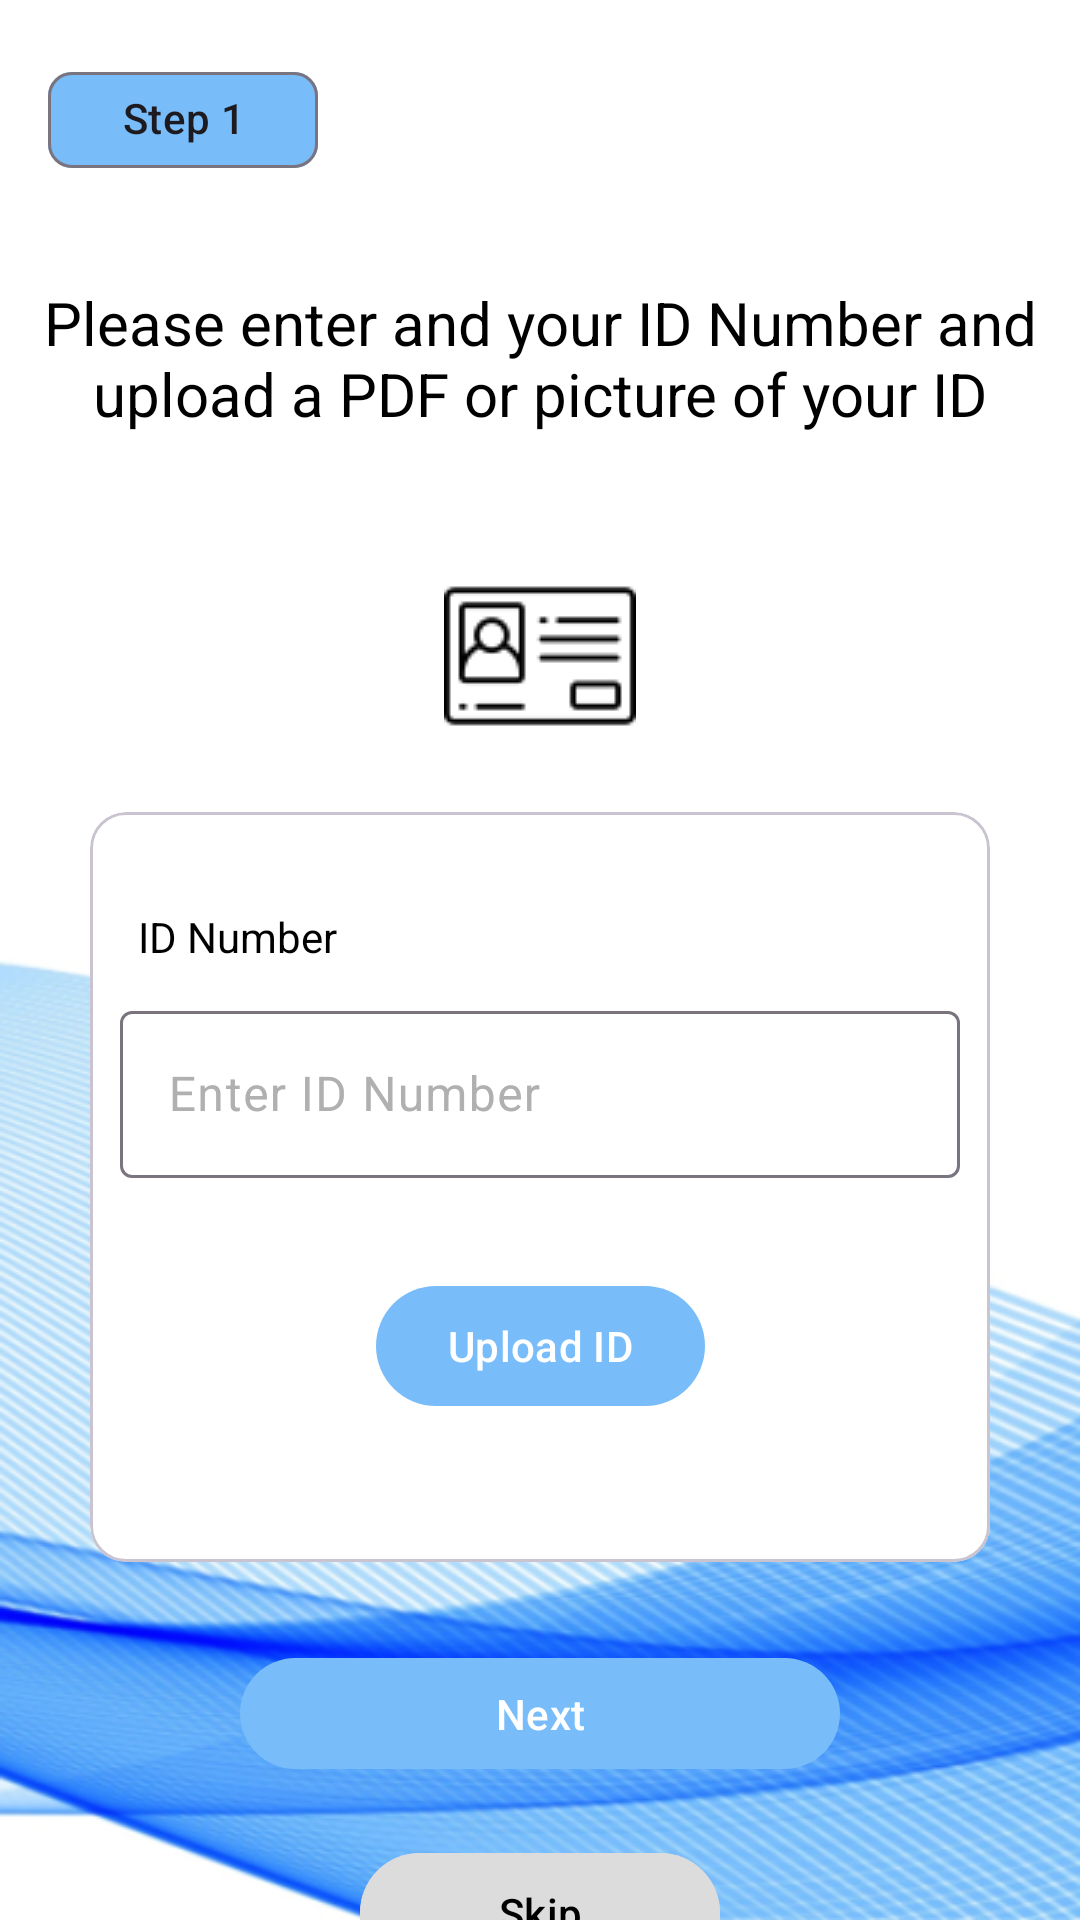

Named icons in this screenshot (1080px×1920px) and their bounding boxes, (left=x1, top=y1, right=x2, bottom=y2):
card: (left=444, top=586, right=636, bottom=726)
